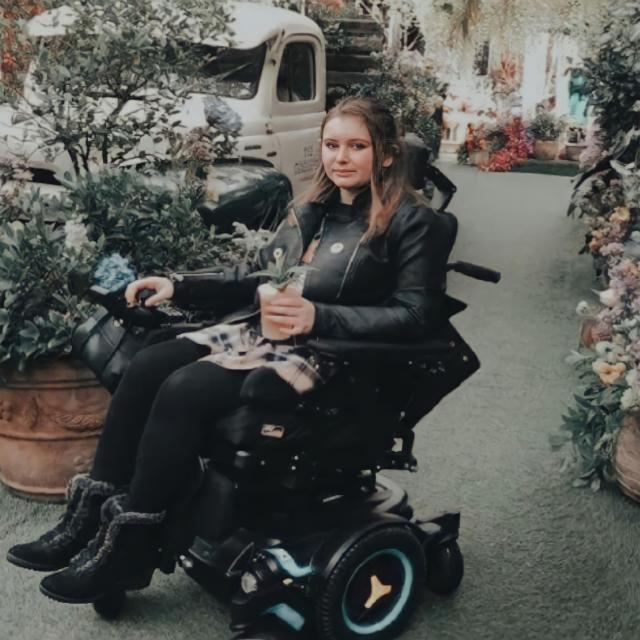wheelchairs: (72, 260, 522, 635)
